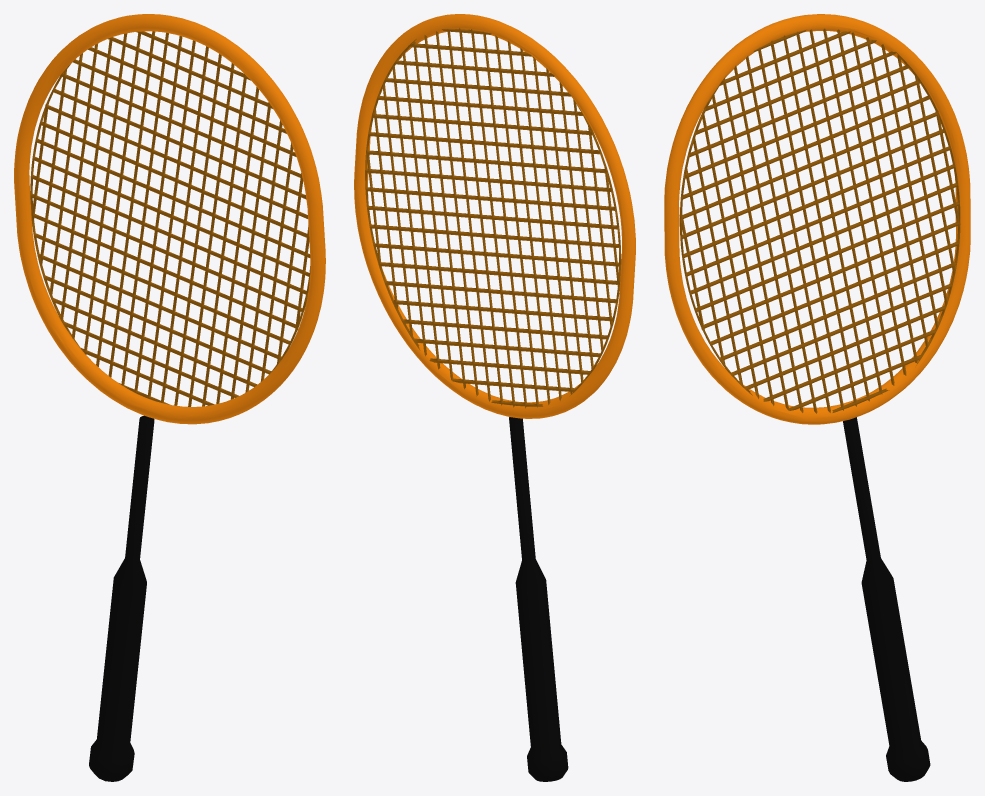
The picture shows the model from 3 angles, left to right: view 1: azimuth 30°, elevation 25°; view 2: azimuth 210°, elevation 25°; view 3: azimuth 270°, elevation 25°; orthographic projection. The views are drawn at different scales.
Visible parts, largest first — view 1: Torus.001; view 2: Torus.001; view 3: Torus.001.
Boxes of the visible parts, x1,y1,x2,y2 form: Torus.001: (14, 14, 325, 781); Torus.001: (354, 14, 635, 781); Torus.001: (664, 14, 970, 781).
Bounding box in the file's own units: 2.23 × 10.77 × 3.92.
